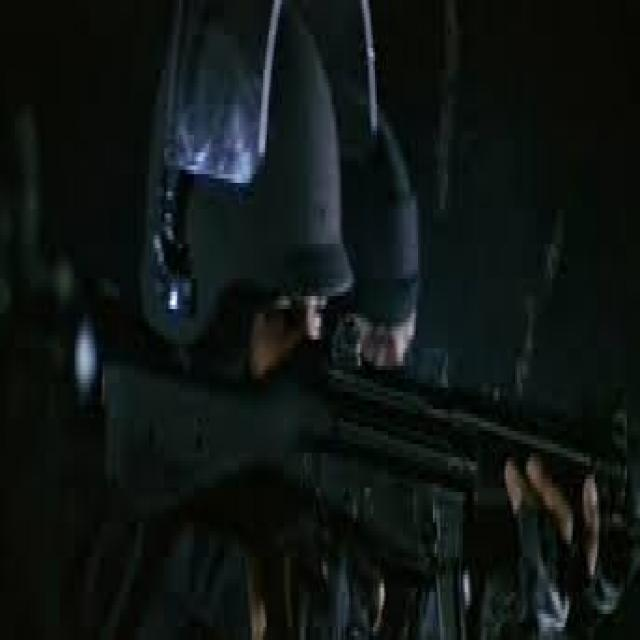Rifle: (97, 322, 640, 636)
